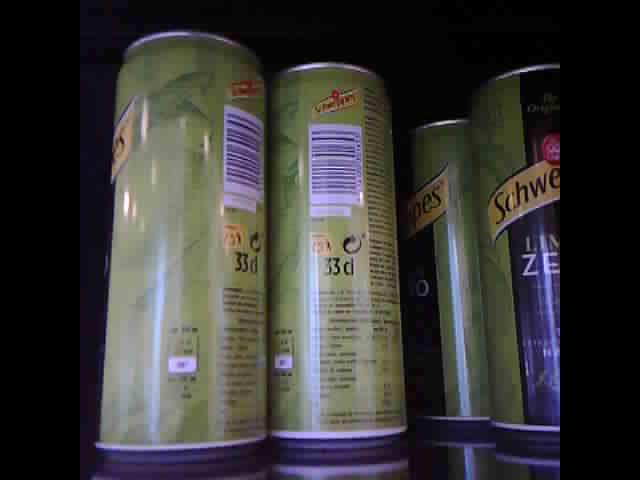schweppes: (92, 31, 271, 454), (267, 60, 408, 451), (474, 59, 561, 437), (410, 116, 489, 427)
